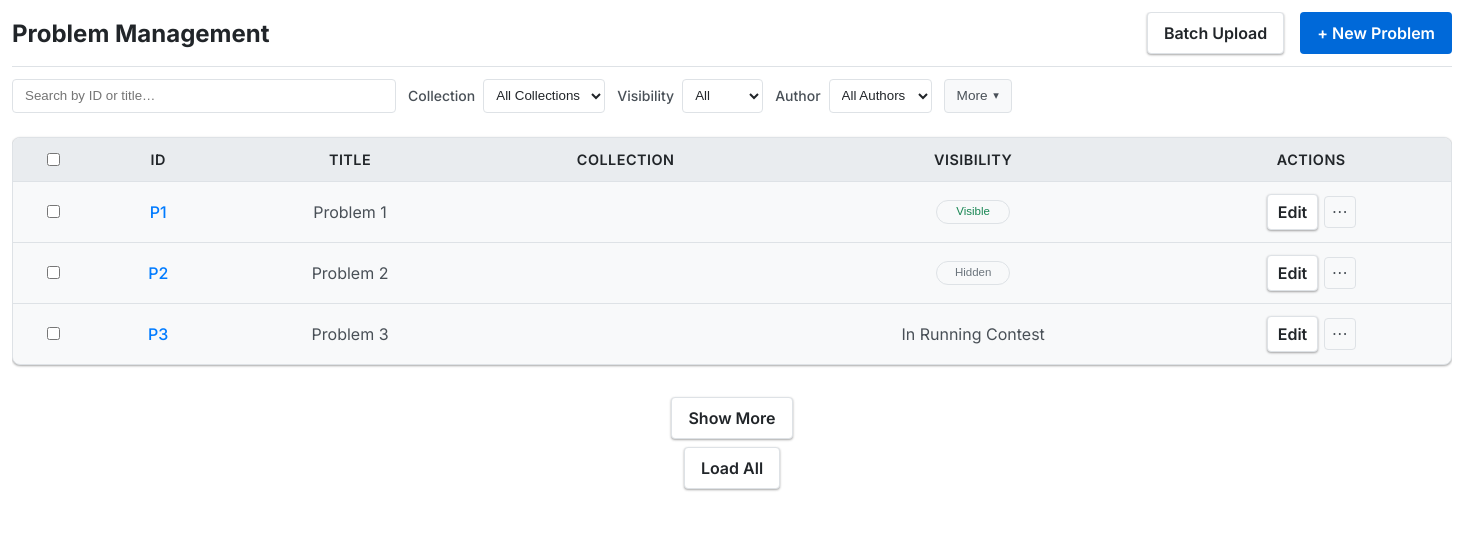
Test: ProblemManagement Component › Show More pagination (server-side) › Load All keeps completed rows and offers a retry after a later page fails
Check: the text "Problem 2" is shown, box [224,242,477,303]
Click the button "Load All" at {"x": 732, "y": 468}, box [684,447,780,489]
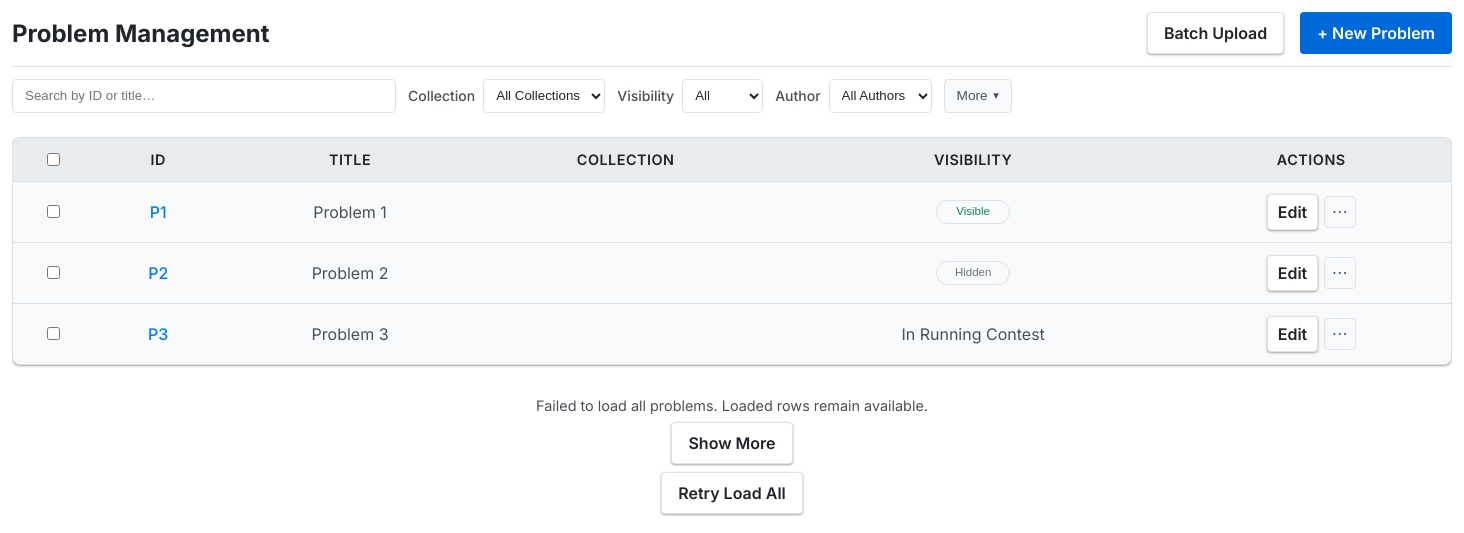
Check: the text "Problem 3" is shown, box [224,303,477,364]
Check: the button "Retry Load All" is shown
Click the button "Retry Load All" at {"x": 732, "y": 493}, box [661,472,803,514]
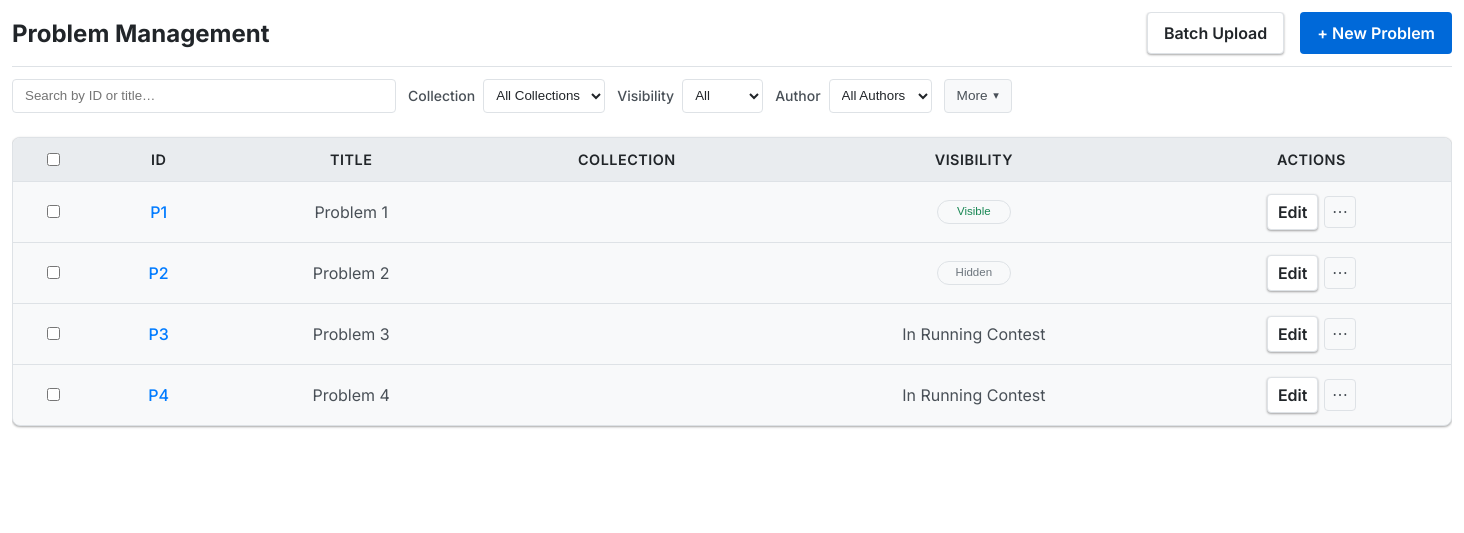
Check: the text "Problem 4" is shown, box [224,364,478,425]
Check: the button "Retry Load All" is gone
